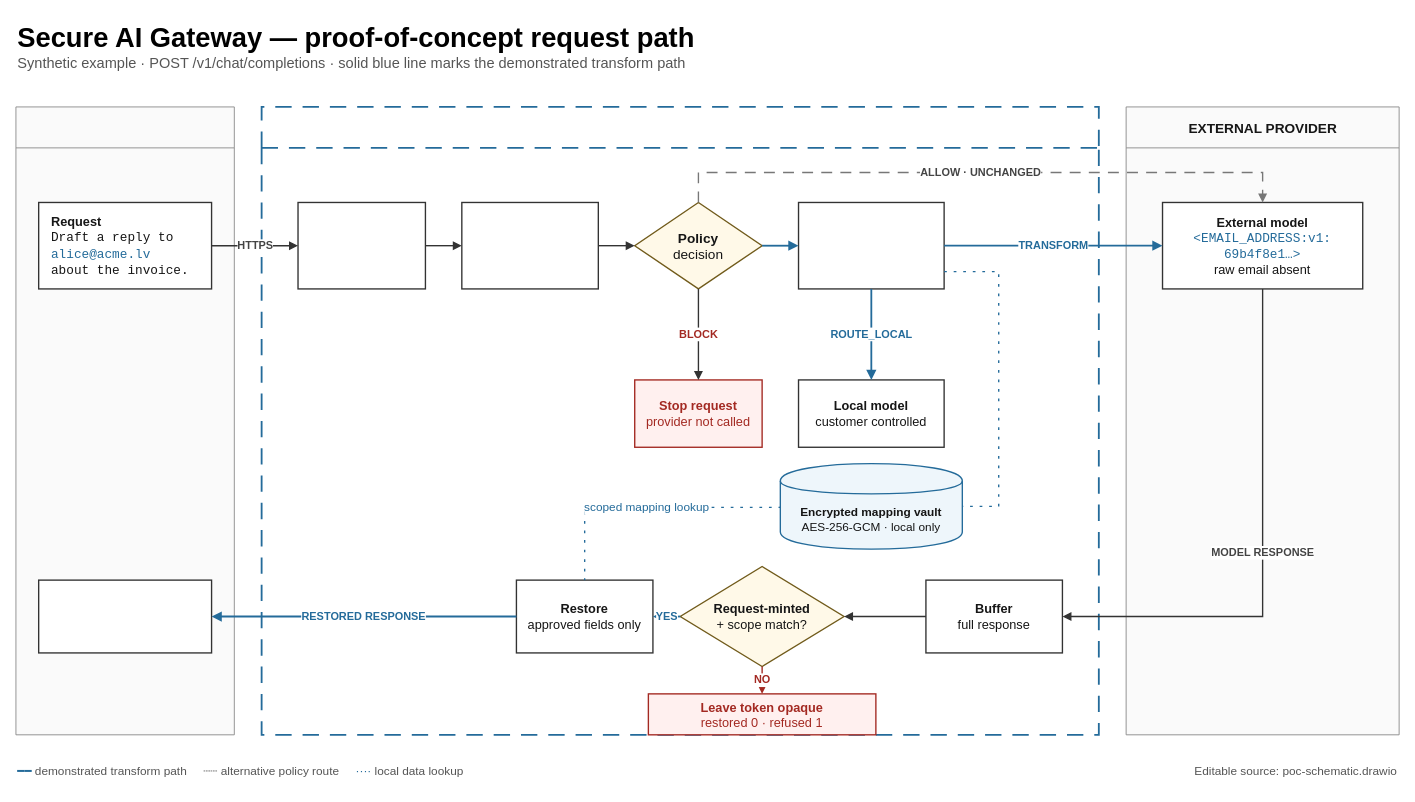
The diagram is 1415 pixels wide and 802 high, and some of its shapes have lost their labels. Each missing label, with the box of its shape:
API ingress authenticate: (297, 201, 426, 289)
Client receives alice@acme.lv: (38, 579, 212, 653)
CUSTOMER ENVIRONMENT — LOCAL TRUST BOUNDARY: (260, 106, 1099, 735)
Inspect detect + normalize EMAIL_ADDRESS × 1: (461, 201, 599, 289)
Tokenize scoped HMAC tag: (797, 201, 944, 289)
UNTRUSTED CLIENT: (15, 106, 234, 735)
